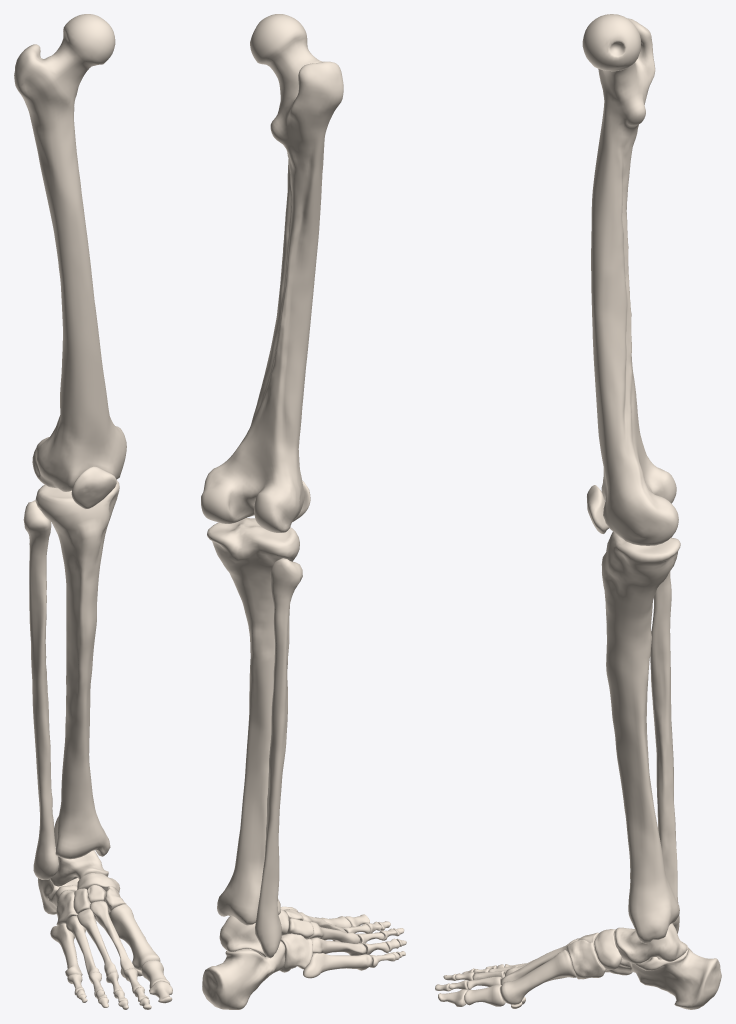
The model's file is Lower_limb.glb.
3 views of the same model, side by side, from view 1: azimuth 30°, elevation 25°; view 2: azimuth 150°, elevation 25°; view 3: azimuth 270°, elevation 25° (orthographic). The views are drawn at different scales.
Parts seen in each view (by area): view 1: Femur.r, Tibia.r, Fibula.r, First metatarsal bone.r, Patella.r, Talus.r, Second metatarsal bone.r, Fifth metatarsal bone.r, Third metatarsal bone.r, Calcaneus.r, Fourth metatarsal bone.r, Cuboid bone.r (+3 smaller); view 2: Femur.r, Tibia.r, Fibula.r, Calcaneus.r, Talus.r, Fifth metatarsal bone.r, Cuboid bone.r, Fourth metatarsal bone.r, Third metatarsal bone.r; view 3: Femur.r, Tibia.r, Fibula.r, Calcaneus.r, Talus.r, First metatarsal bone.r, Medial cuneiform bone.r, Navicular bone.r, Patella.r.
Part boxes in pixels (left/top/right/bottom): Femur.r: left=14, top=14, right=126, bottom=491; Tibia.r: left=35, top=480, right=119, bottom=859; Fibula.r: left=23, top=500, right=58, bottom=879; First metatarsal bone.r: left=109, top=904, right=160, bottom=970; Patella.r: left=71, top=466, right=116, bottom=509; Talus.r: left=50, top=850, right=108, bottom=886; Second metatarsal bone.r: left=90, top=901, right=134, bottom=977; Fifth metatarsal bone.r: left=50, top=923, right=82, bottom=976; Third metatarsal bone.r: left=77, top=909, right=117, bottom=977; Calcaneus.r: left=38, top=878, right=78, bottom=914; Fourth metatarsal bone.r: left=66, top=915, right=99, bottom=975; Cuboid bone.r: left=56, top=890, right=77, bottom=925; Femur.r: left=201, top=14, right=343, bottom=532; Tibia.r: left=207, top=518, right=299, bottom=925; Fibula.r: left=255, top=558, right=302, bottom=958; Calcaneus.r: left=202, top=941, right=285, bottom=1009; Talus.r: left=219, top=915, right=266, bottom=957; Fifth metatarsal bone.r: left=303, top=953, right=372, bottom=978; Cuboid bone.r: left=280, top=933, right=312, bottom=972; Fourth metatarsal bone.r: left=310, top=937, right=366, bottom=955; Third metatarsal bone.r: left=306, top=922, right=359, bottom=943; Femur.r: left=582, top=14, right=678, bottom=545; Tibia.r: left=601, top=531, right=680, bottom=943; Fibula.r: left=650, top=571, right=679, bottom=933; Calcaneus.r: left=631, top=943, right=721, bottom=1009; Talus.r: left=615, top=923, right=687, bottom=963; First metatarsal bone.r: left=500, top=950, right=576, bottom=1004; Medial cuneiform bone.r: left=566, top=939, right=605, bottom=979; Navicular bone.r: left=594, top=929, right=622, bottom=970; Patella.r: left=587, top=485, right=608, bottom=533.
Size of the model in its own units: 0.1159 by 0.8748 by 0.2306.
